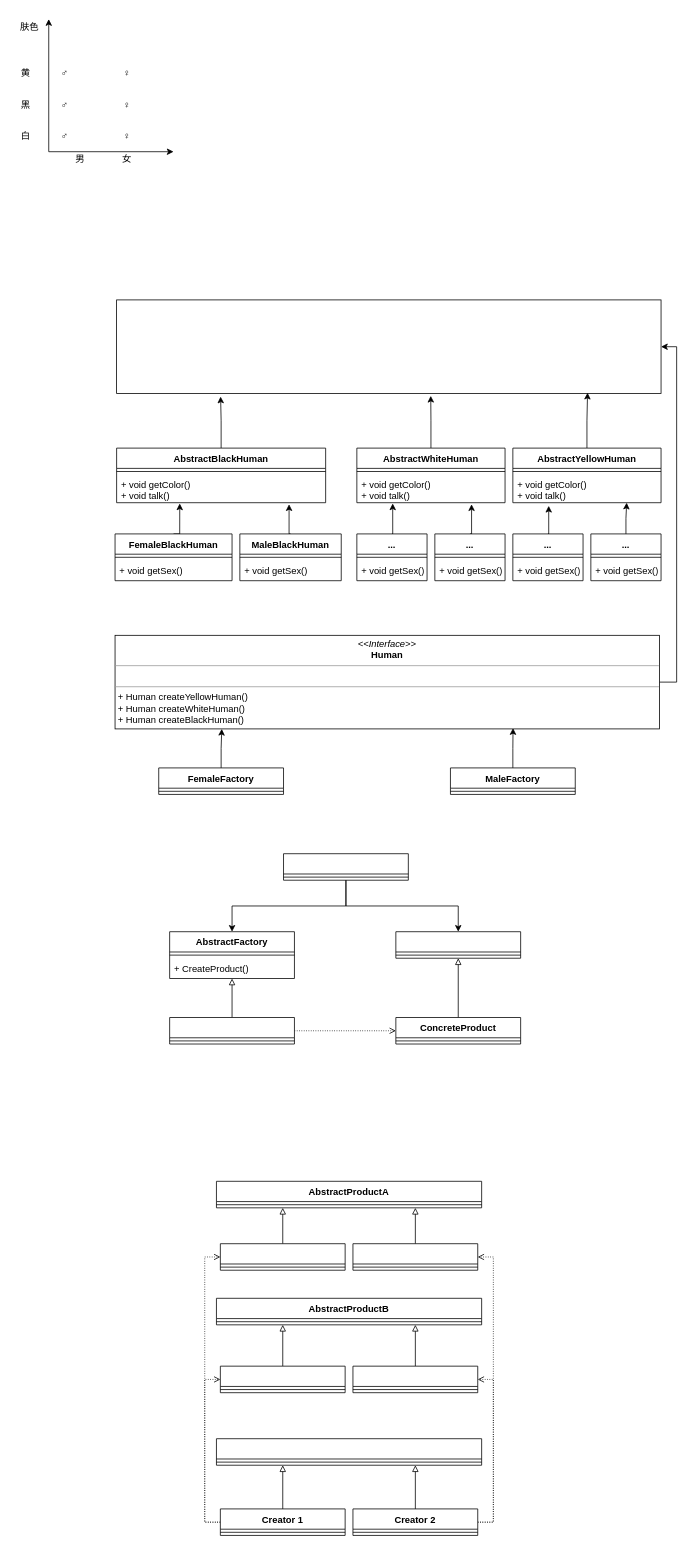
Some shapes in this 697 by 1549 pixel diagram are drawn without their labels. Here are the shapes that lost their labels. From the top down, the centre of each, then its label:
the point at 388,346: <<Interface>> Human + void getColor() + void talk() + void getSex()
the point at 345,866: Client
the point at 458,944: AbstractProduct
the point at 231,1030: ConcreteFactory
the point at 282,1256: ProductA 1
the point at 415,1256: ProductA 2
the point at 282,1379: ProductB 1
the point at 415,1379: ProductB 2
the point at 349,1451: AbstractCreator
